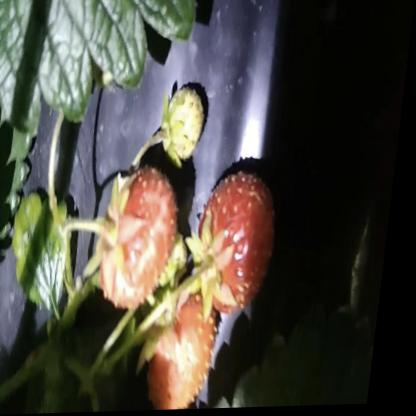ripe: (96, 162, 192, 308), (197, 167, 287, 312), (148, 294, 230, 411)
unripe: (158, 79, 215, 161)
